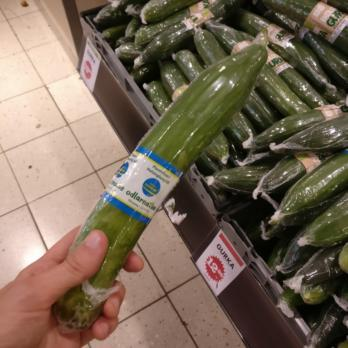Cucumber: (51, 42, 274, 336), (122, 4, 348, 49), (129, 48, 348, 92), (222, 185, 348, 219), (202, 152, 348, 180), (280, 268, 348, 322), (250, 226, 348, 263), (152, 92, 348, 109)
